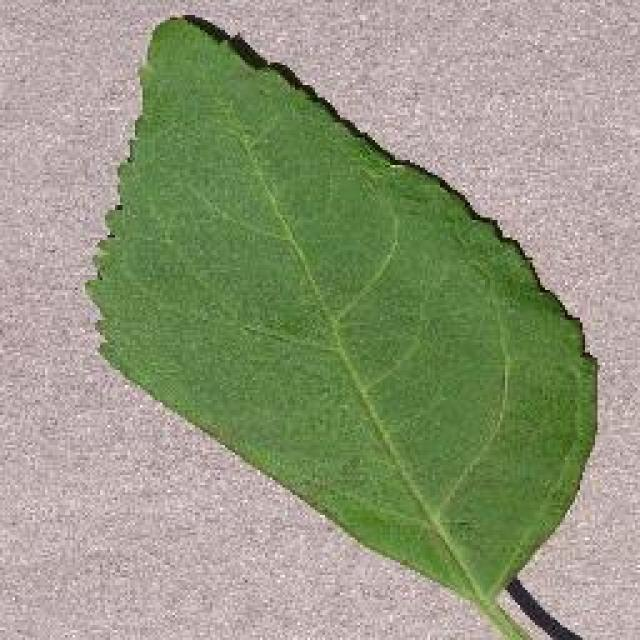Cherry___healthy: (70, 2, 618, 640)
